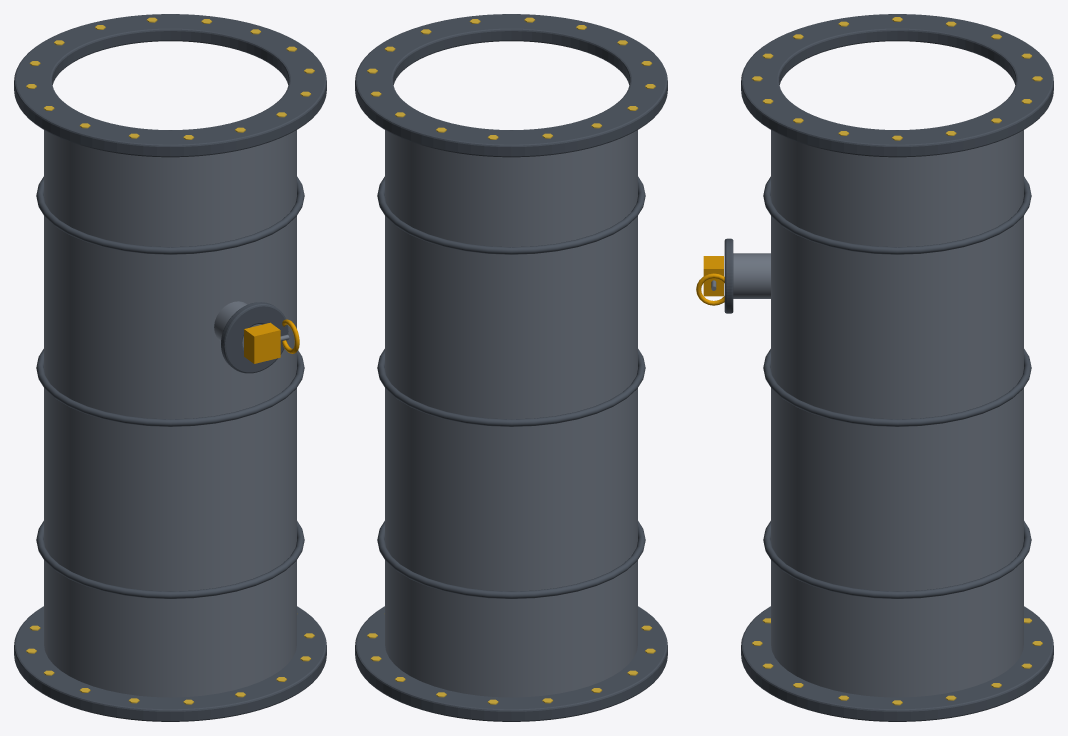
File: straight_circular_duct.glb
3 views of the same model, side by side, from view 1: azimuth 30°, elevation 25°; view 2: azimuth 150°, elevation 25°; view 3: azimuth 270°, elevation 25° (orthographic).
Visible parts, largest first — view 1: StraightCircularDuct; view 2: StraightCircularDuct; view 3: StraightCircularDuct.
Boxes of the visible parts, x1=… form: StraightCircularDuct: x1=14, y1=14, x2=326, y2=721; StraightCircularDuct: x1=355, y1=14, x2=667, y2=721; StraightCircularDuct: x1=696, y1=14, x2=1053, y2=721.
Size of the model in its own units: 2.47 by 5.05 by 2.83.
